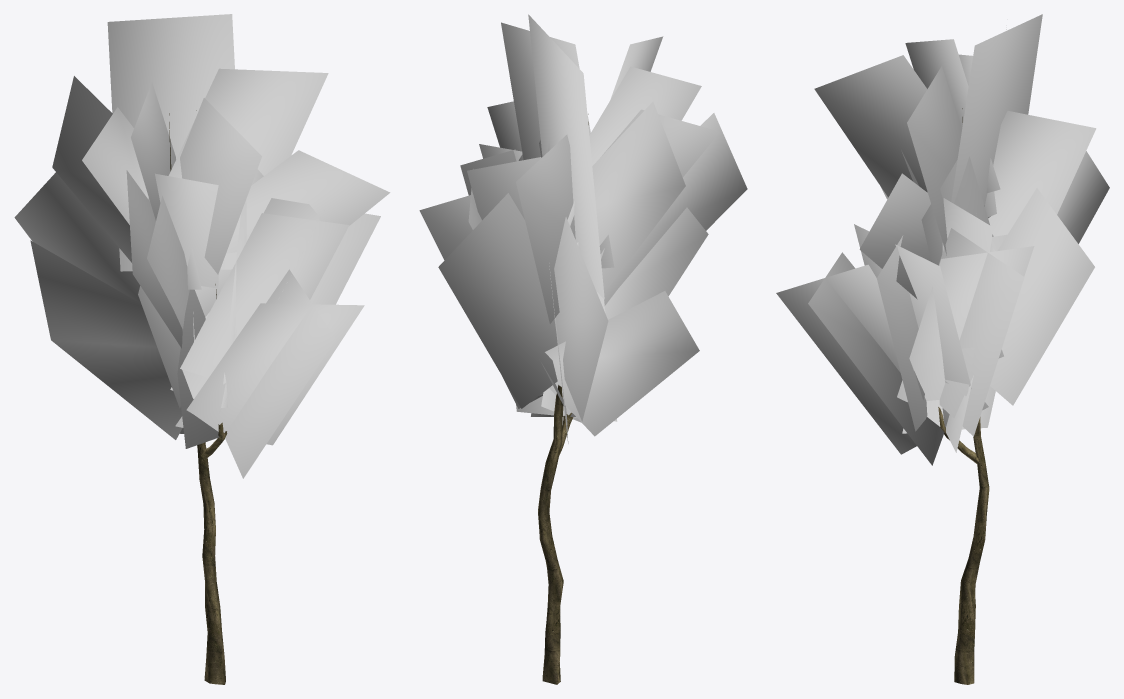
File: Prop_Tree_04.FBX
3 views of the same model, side by side, from view 1: azimuth 30°, elevation 25°; view 2: azimuth 150°, elevation 25°; view 3: azimuth 270°, elevation 25° (orthographic). The views are drawn at different scales.
Visible parts, largest first — view 1: 506; view 2: 506; view 3: 506.
Boxes of the visible parts, x1,y1,x2,y2 form: 506: (14, 14, 390, 684); 506: (419, 14, 747, 684); 506: (776, 14, 1109, 684).
Bounding box in the file's own units: 343 × 785 × 368.
